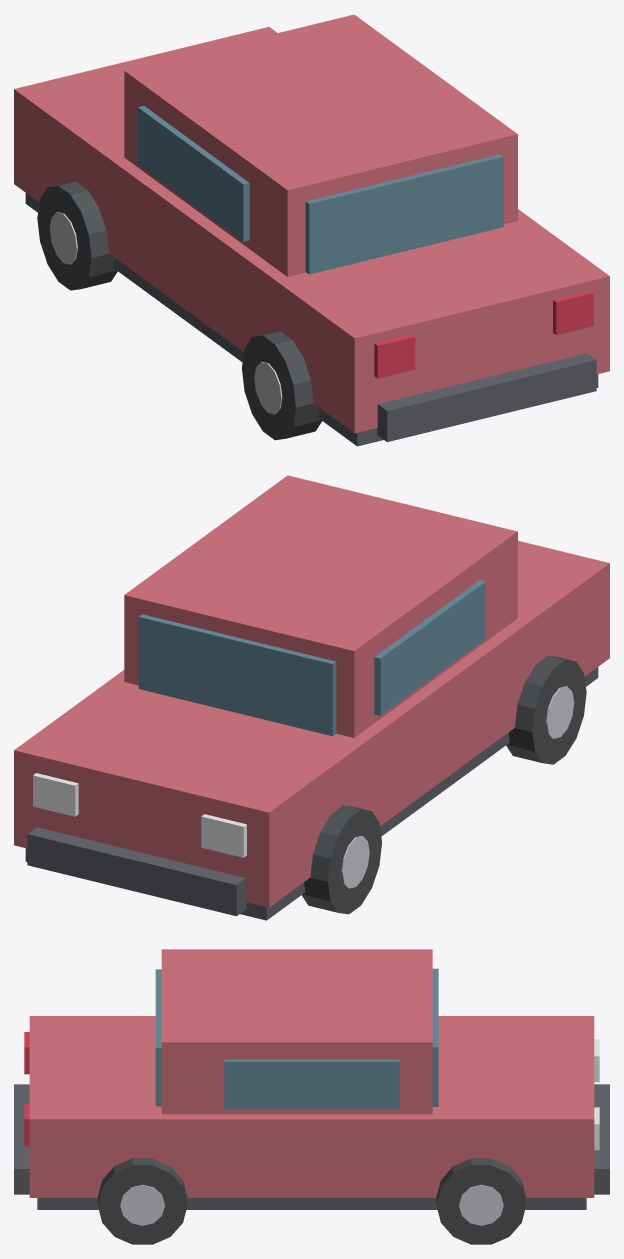
File: uno.glb
3 views of the same model, one above another, from view 1: azimuth 30°, elevation 25°; view 2: azimuth 150°, elevation 25°; view 3: azimuth 270°, elevation 25° (orthographic). The views are drawn at different scales.
Parts seen in each view (by area): view 1: BODY_main, BODY_cabin, WINDOW_rear, BODY_bumper_rear, WINDOW_side_-1, WHEEL_-1_-1.131, WHEEL_-1_1.131, BODY_lower, LIGHT_rear_-1, LIGHT_rear_1, WHEEL_-1_1.131_hub, WHEEL_-1_-1.131_hub; view 2: BODY_main, BODY_cabin, WINDOW_front, BODY_bumper_front, WINDOW_side_-1, WHEEL_-1_1.131, WHEEL_-1_-1.131, BODY_lower, LIGHT_front_1, LIGHT_front_-1, WHEEL_-1_-1.131_hub, WHEEL_-1_1.131_hub; view 3: BODY_main, BODY_cabin, WINDOW_side_1, WHEEL_1_-1.131, WHEEL_1_1.131, BODY_lower, BODY_bumper_rear, BODY_bumper_front, WHEEL_1_-1.131_hub, WHEEL_1_1.131_hub, WINDOW_front, WINDOW_rear.
Boxes of the visible parts, bbox=[...] form: BODY_main: bbox=[14, 27, 609, 433]; BODY_cabin: bbox=[124, 14, 517, 276]; WINDOW_rear: bbox=[305, 154, 503, 274]; BODY_bumper_rear: bbox=[377, 353, 596, 442]; WINDOW_side_-1: bbox=[138, 106, 249, 241]; WHEEL_-1_-1.131: bbox=[37, 181, 117, 290]; WHEEL_-1_1.131: bbox=[242, 331, 321, 440]; BODY_lower: bbox=[25, 193, 598, 446]; LIGHT_rear_-1: bbox=[374, 334, 415, 378]; LIGHT_rear_1: bbox=[553, 291, 593, 334]; WHEEL_-1_1.131_hub: bbox=[254, 361, 282, 414]; WHEEL_-1_-1.131_hub: bbox=[49, 212, 77, 264]; BODY_main: bbox=[14, 541, 609, 907]; BODY_cabin: bbox=[124, 475, 517, 737]; WINDOW_front: bbox=[138, 614, 336, 736]; BODY_bumper_front: bbox=[27, 827, 246, 916]; WINDOW_side_-1: bbox=[374, 580, 485, 715]; WHEEL_-1_1.131: bbox=[506, 656, 586, 764]; WHEEL_-1_-1.131: bbox=[301, 805, 381, 914]; BODY_lower: bbox=[25, 667, 598, 920]; LIGHT_front_1: bbox=[33, 773, 78, 816]; LIGHT_front_-1: bbox=[201, 814, 246, 857]; WHEEL_-1_-1.131_hub: bbox=[341, 836, 369, 888]; WHEEL_-1_1.131_hub: bbox=[546, 686, 574, 738]; BODY_main: bbox=[29, 1016, 594, 1197]; BODY_cabin: bbox=[161, 949, 432, 1114]; WINDOW_side_1: bbox=[224, 1059, 399, 1109]; WHEEL_1_-1.131: bbox=[436, 1158, 526, 1244]; WHEEL_1_1.131: bbox=[97, 1158, 187, 1244]; BODY_lower: bbox=[37, 1198, 586, 1209]; BODY_bumper_rear: bbox=[14, 1084, 29, 1194]; BODY_bumper_front: bbox=[594, 1084, 609, 1194]; WHEEL_1_-1.131_hub: bbox=[459, 1184, 503, 1225]; WHEEL_1_1.131_hub: bbox=[120, 1184, 164, 1225]; WINDOW_front: bbox=[432, 968, 438, 1106]; WINDOW_rear: bbox=[155, 969, 161, 1106].
Bounding box in the file's own units: 1.87 × 1.4 × 3.98.
